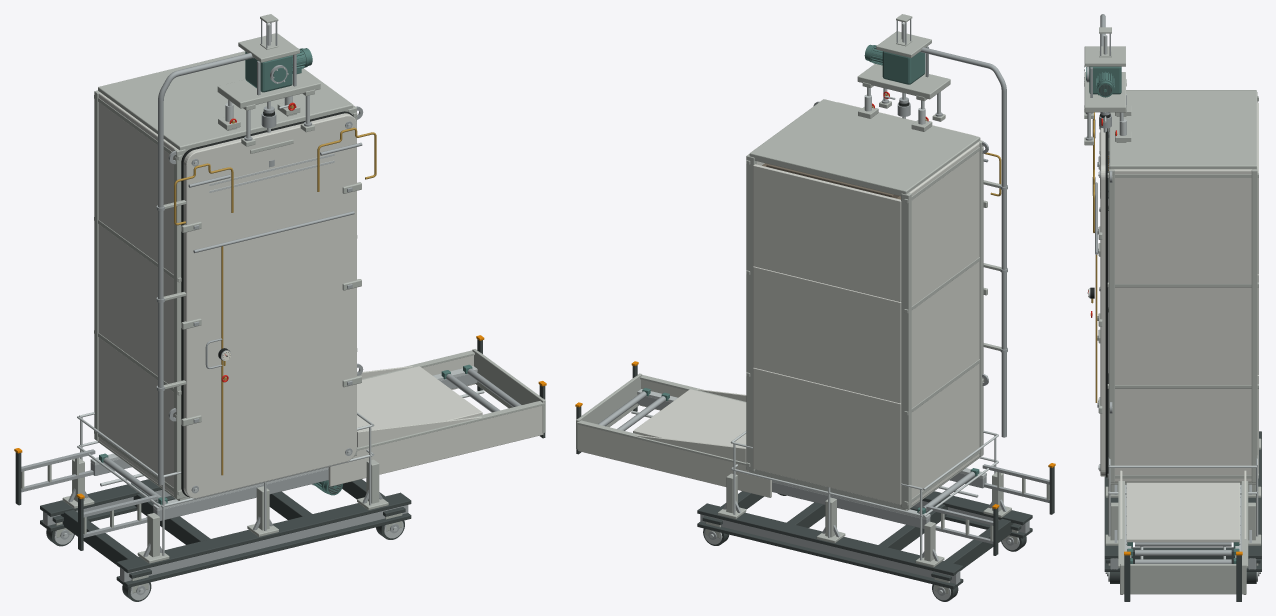
File: pit_furnace_1_v1.glb
The picture shows the model from 3 angles, left to right: view 1: azimuth 30°, elevation 25°; view 2: azimuth 150°, elevation 25°; view 3: azimuth 270°, elevation 25°; orthographic projection. The views are drawn at different scales.
Parts seen in each view (by area): view 1: pf1_external_cover_front_v6_enamel, pf1_insulated_casing_v6_enamel, pf1_insulated_casing_v6_enamel_edge, pf1_transfer_extension_v6_enamel, pf1_mobile_chassis_v6_dark_structure, pf1_transfer_extension_v6_brushed_metal, pf1_gas_and_service_pipework_v6_brushed_metal, pf1_transfer_extension_v6_enamel_edge, pf1_top_lift_drive_v6_enamel_edge, pf1_mobile_chassis_v6_brushed_metal, pf1_mobile_chassis_v6_enamel_edge, pf1_base_guardrails_v6_stainless (+8 smaller); view 2: pf1_insulated_casing_v6_enamel, pf1_insulated_casing_v6_enamel_edge, pf1_transfer_extension_v6_enamel, pf1_mobile_chassis_v6_dark_structure, pf1_transfer_extension_v6_brushed_metal, pf1_transfer_extension_v6_enamel_edge, pf1_gas_and_service_pipework_v6_brushed_metal, pf1_top_lift_drive_v6_enamel_edge, pf1_mobile_chassis_v6_brushed_metal, pf1_mobile_chassis_v6_enamel_edge, pf1_base_guardrails_v6_stainless, pf1_top_lift_drive_v6_motor_teal (+2 smaller); view 3: pf1_insulated_casing_v6_enamel, pf1_insulated_casing_v6_enamel_edge, pf1_transfer_extension_v6_enamel, pf1_transfer_extension_v6_enamel_edge, pf1_external_cover_front_v6_enamel, pf1_mobile_chassis_v6_dark_structure, pf1_top_lift_drive_v6_enamel_edge, pf1_transfer_extension_v6_brushed_metal, pf1_external_cover_front_v6_gasket, pf1_mobile_chassis_v6_enamel_edge, pf1_base_guardrails_v6_stainless, pf1_top_lift_drive_v6_motor_teal (+8 smaller).
Boxes of the visible parts, <box> form: pf1_external_cover_front_v6_enamel: <box>183,113,356,498</box>; pf1_insulated_casing_v6_enamel: <box>97,91,353,495</box>; pf1_insulated_casing_v6_enamel_edge: <box>94,51,357,500</box>; pf1_transfer_extension_v6_enamel: <box>328,355,543,486</box>; pf1_mobile_chassis_v6_dark_structure: <box>40,479,411,587</box>; pf1_transfer_extension_v6_brushed_metal: <box>21,368,521,537</box>; pf1_gas_and_service_pipework_v6_brushed_metal: <box>156,53,362,485</box>; pf1_transfer_extension_v6_enamel_edge: <box>21,349,545,534</box>; pf1_top_lift_drive_v6_enamel_edge: <box>217,14,320,146</box>; pf1_mobile_chassis_v6_brushed_metal: <box>43,488,408,582</box>; pf1_mobile_chassis_v6_enamel_edge: <box>62,458,388,563</box>; pf1_base_guardrails_v6_stainless: <box>77,412,374,555</box>; pf1_insulated_casing_v6_enamel: <box>753,141,980,505</box>; pf1_insulated_casing_v6_enamel_edge: <box>746,99,983,510</box>; pf1_transfer_extension_v6_enamel: <box>578,379,771,497</box>; pf1_mobile_chassis_v6_dark_structure: <box>697,491,1032,589</box>; pf1_transfer_extension_v6_brushed_metal: <box>598,391,1049,544</box>; pf1_transfer_extension_v6_enamel_edge: <box>576,373,1049,540</box>; pf1_gas_and_service_pipework_v6_brushed_metal: <box>920,47,1007,437</box>; pf1_top_lift_drive_v6_enamel_edge: <box>857,14,950,121</box>; pf1_mobile_chassis_v6_brushed_metal: <box>700,499,1029,584</box>; pf1_mobile_chassis_v6_enamel_edge: <box>718,472,1011,567</box>; pf1_base_guardrails_v6_stainless: <box>730,430,998,560</box>; pf1_top_lift_drive_v6_motor_teal: <box>864,44,925,84</box>; pf1_insulated_casing_v6_enamel: <box>1111,102,1258,482</box>; pf1_insulated_casing_v6_enamel_edge: <box>1107,90,1258,484</box>; pf1_transfer_extension_v6_enamel: <box>1120,470,1246,594</box>; pf1_transfer_extension_v6_enamel_edge: <box>1118,481,1248,594</box>; pf1_external_cover_front_v6_enamel: <box>1100,112,1105,476</box>; pf1_mobile_chassis_v6_dark_structure: <box>1104,431,1261,571</box>; pf1_top_lift_drive_v6_enamel_edge: <box>1084,27,1126,145</box>; pf1_transfer_extension_v6_brushed_metal: <box>1135,542,1231,563</box>; pf1_external_cover_front_v6_gasket: <box>1105,128,1108,477</box>; pf1_mobile_chassis_v6_enamel_edge: <box>1105,438,1261,545</box>; pf1_base_guardrails_v6_stainless: <box>1108,373,1258,536</box>; pf1_top_lift_drive_v6_motor_teal: <box>1086,66,1121,97</box>.
Size of the model in its own units: 5.96 by 6.77 by 2.19.
